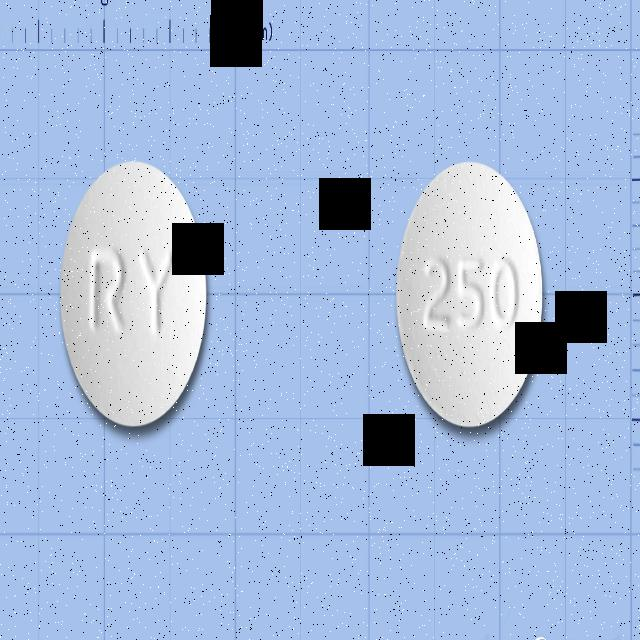Cipurocin: (392, 153, 549, 444), (54, 153, 213, 437)
